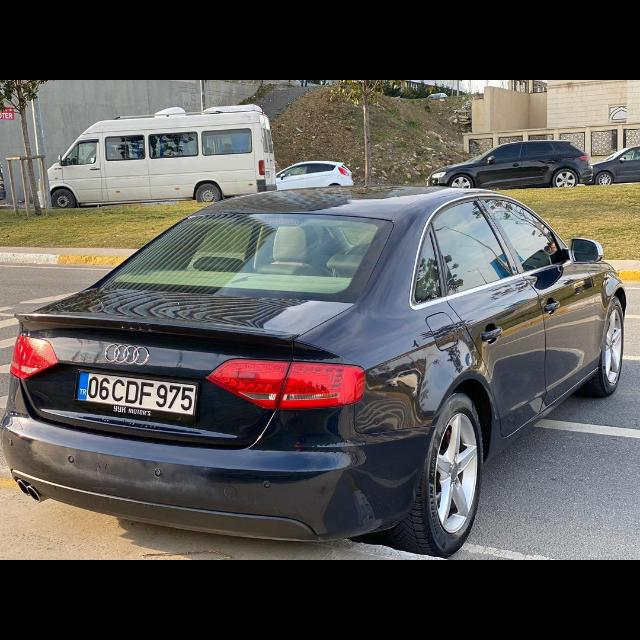Plaka: (74, 371, 196, 417)
